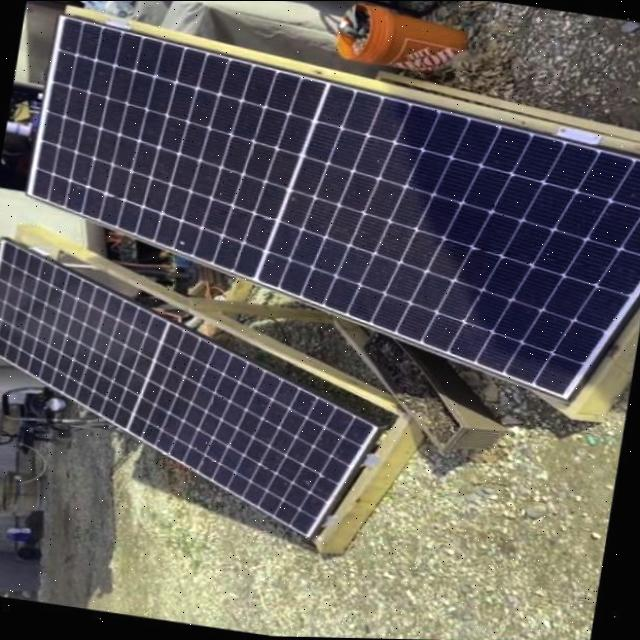Normal Solar Panel: (8, 17, 640, 404), (0, 241, 402, 545)
